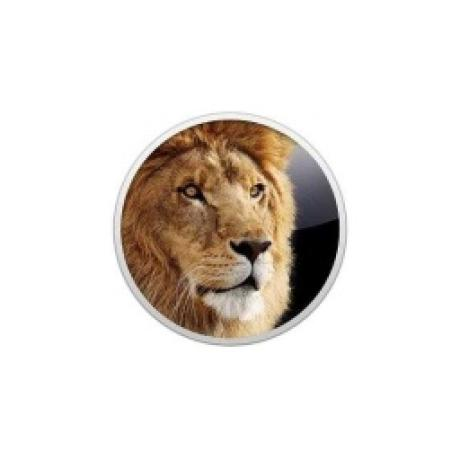Lion: (120, 122, 298, 340)
